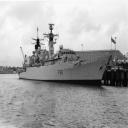Fragata: (18, 22, 114, 88)
